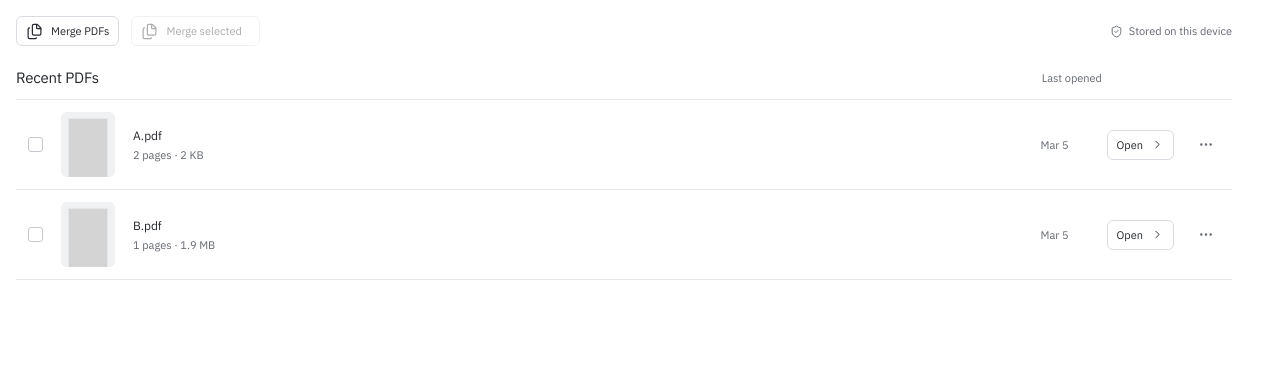
Test: context menu › Escape closes and returns focus to More
Expected: the text "A.pdf" is shown, [133,128,162,142]
Click the button named "More actions for A.pdf" at (1206, 144), box [1192,130,1220,158]
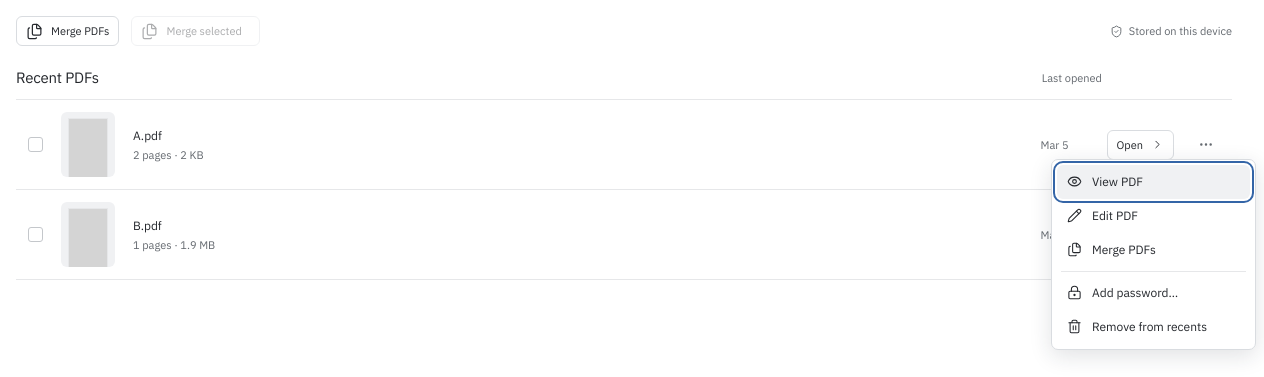
Press Escape
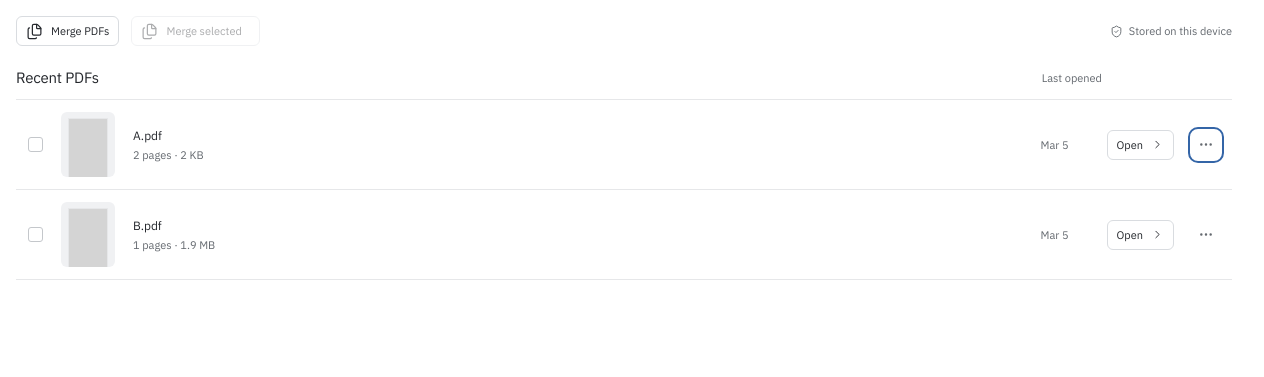
Now the menu is gone
